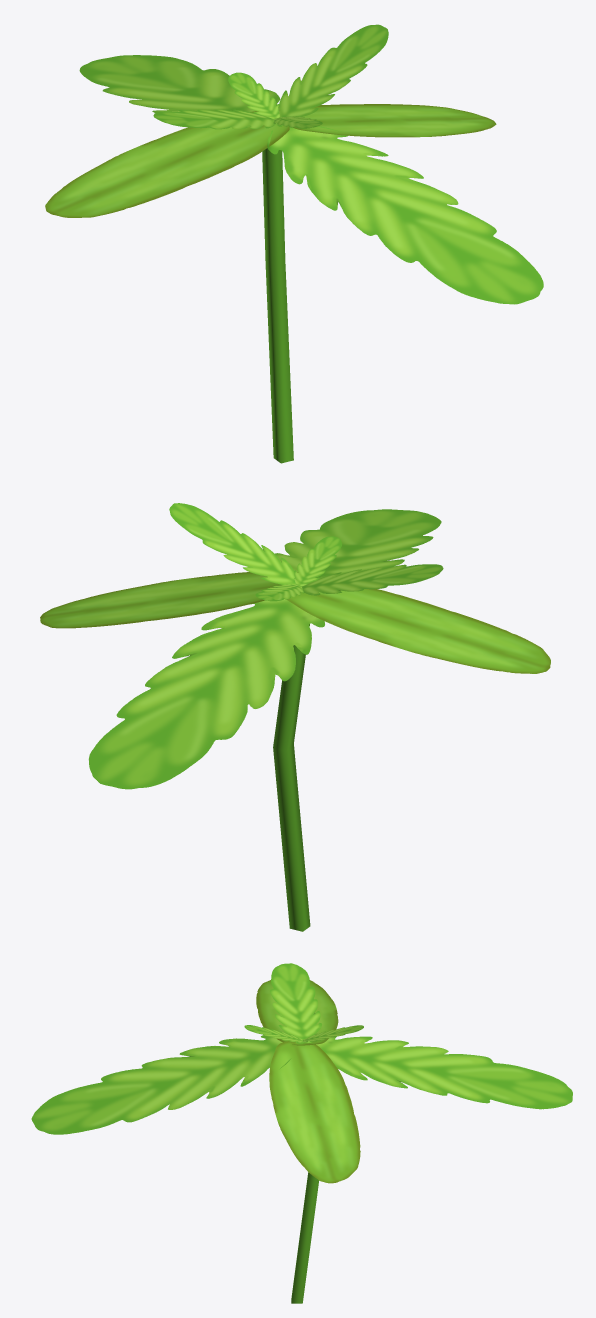
File: CannabisStage01_03.fbx
3 renders of one model, top to bottom at view 1: azimuth 30°, elevation 25°; view 2: azimuth 150°, elevation 25°; view 3: azimuth 270°, elevation 25°, orthographic. The views are drawn at different scales.
Parts seen in each view (by area): view 1: CannabisStage01_03_LOD0; view 2: CannabisStage01_03_LOD0; view 3: CannabisStage01_03_LOD0.
Part boxes in pixels (x1,y1,x2,y2): CannabisStage01_03_LOD0: (45,24,543,463); CannabisStage01_03_LOD0: (40,503,550,931); CannabisStage01_03_LOD0: (31,963,572,1303).
Size of what is drawn, in the model's own units: 22.73 by 17.41 by 29.46.
